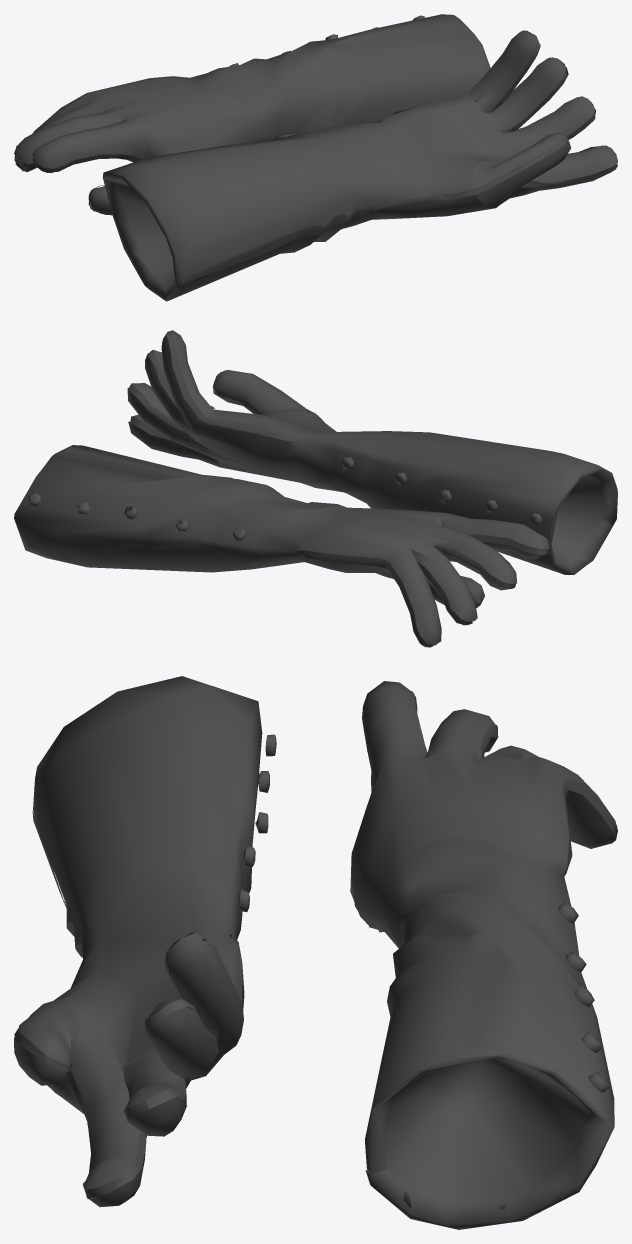
The model's file is gloves.glb.
The picture shows the model from 3 angles, top to bottom: view 1: azimuth 30°, elevation 25°; view 2: azimuth 150°, elevation 25°; view 3: azimuth 270°, elevation 25°; orthographic projection. The views are drawn at different scales.
Parts seen in each view (by area): view 1: 10137_DressGloves_v4_L3.001, 10137_DressGloves_v4_L3; view 2: 10137_DressGloves_v4_L3, 10137_DressGloves_v4_L3.001; view 3: 10137_DressGloves_v4_L3, 10137_DressGloves_v4_L3.001.
Boxes of the visible parts, x1,y1,x2,y2 form: 10137_DressGloves_v4_L3.001: (102,30,617,301); 10137_DressGloves_v4_L3: (14,14,490,215); 10137_DressGloves_v4_L3: (14,445,549,647); 10137_DressGloves_v4_L3.001: (127,330,617,574); 10137_DressGloves_v4_L3: (350,681,617,1229); 10137_DressGloves_v4_L3.001: (14,676,276,1207).
Size of the model in its own units: 1.49 by 0.4737 by 0.9363.
Materials: 2 (2 with a texture image).
